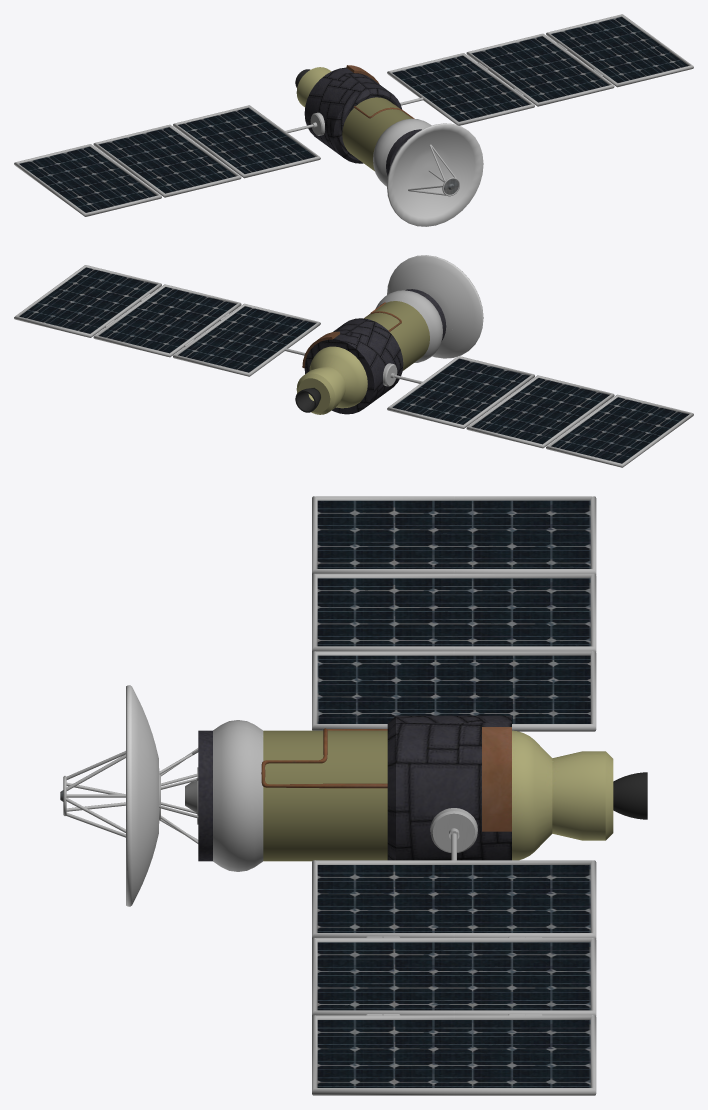
The picture shows the model from 3 angles, top to bottom: view 1: azimuth 30°, elevation 25°; view 2: azimuth 150°, elevation 25°; view 3: azimuth 270°, elevation 25°; orthographic projection. The views are drawn at different scales.
Visible parts, largest first — view 1: satellite; view 2: satellite; view 3: satellite.
Part boxes in pixels (<box>): satellite: <box>14,14,693,226</box>; satellite: <box>14,255,693,467</box>; satellite: <box>60,496,647,1095</box>.
Bounding box in the file's own units: 10.73 × 1.69 × 4.48.
1 material, 1 textured.
